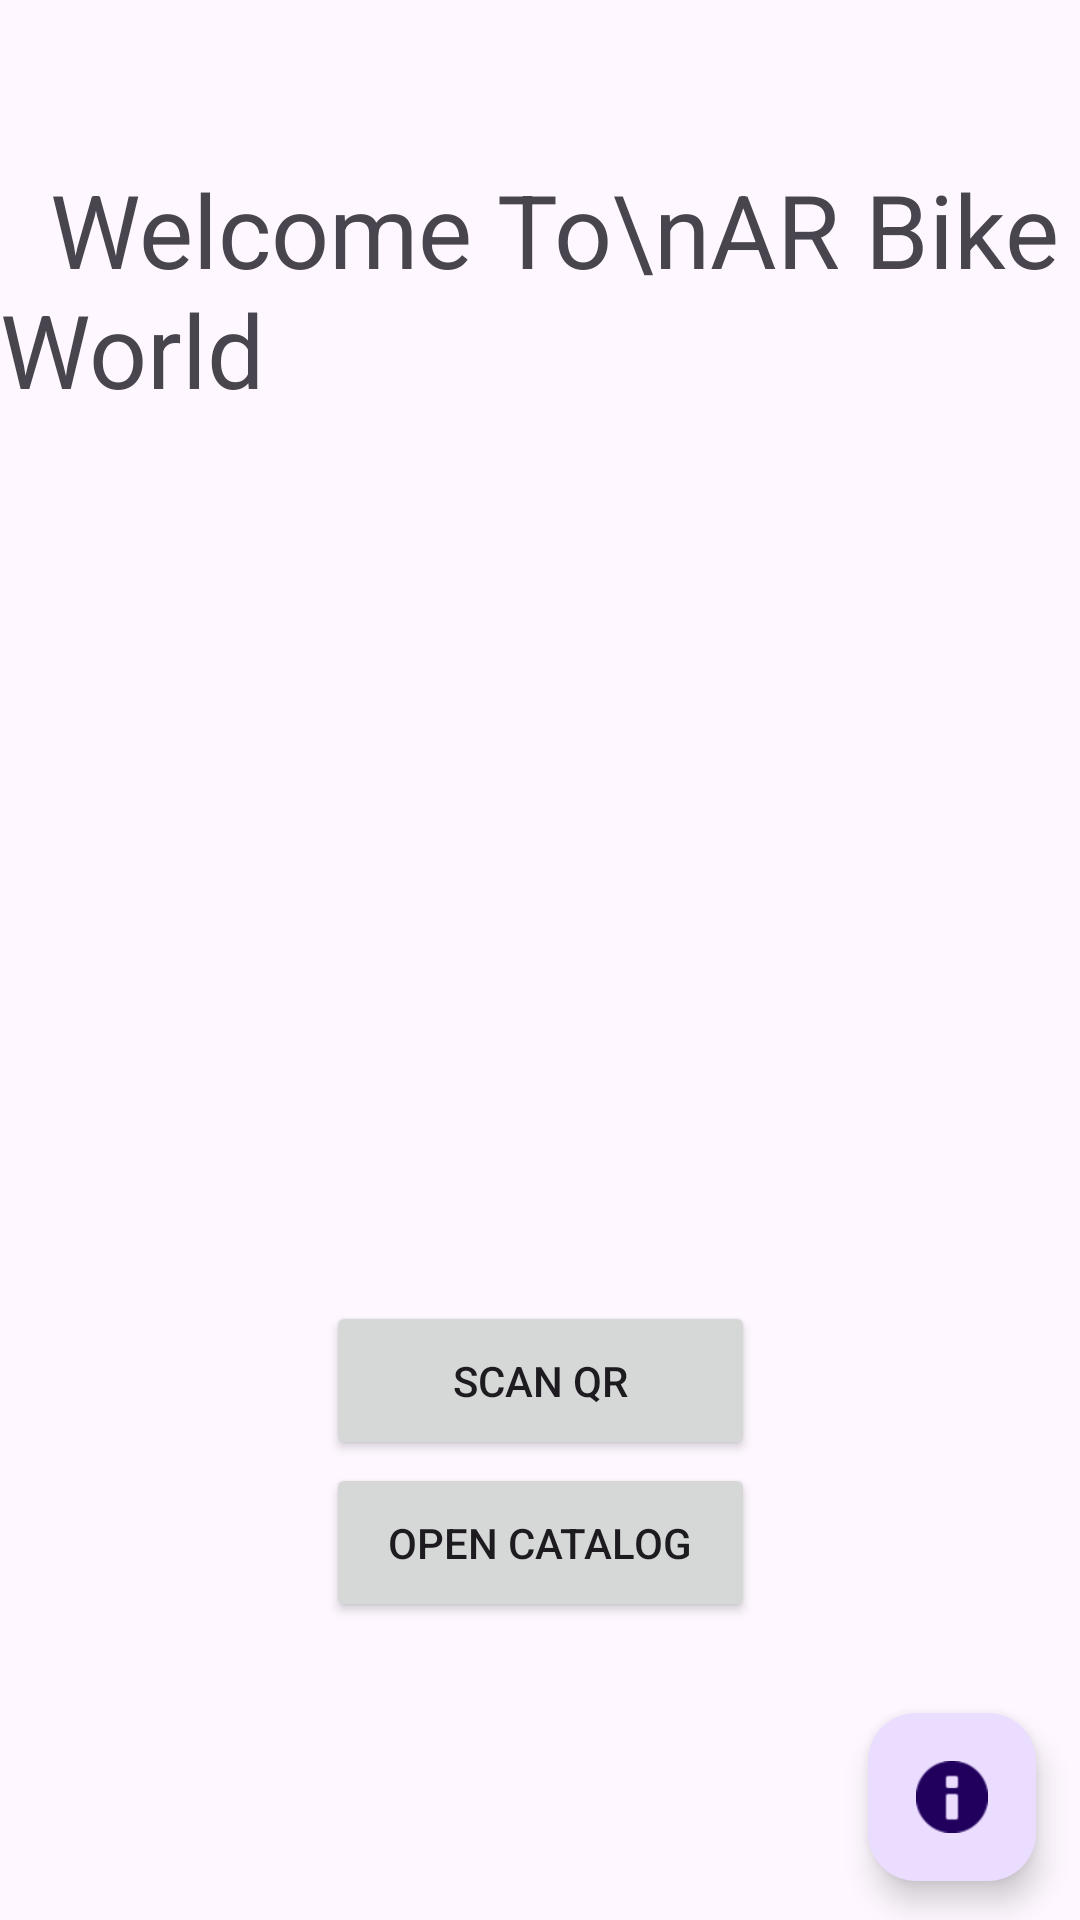

Screen size 1080*1920. Icon name, then its center in pixels as (x,y):
info: (952,1797)
